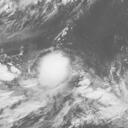cyclone: (37, 53, 71, 88)
